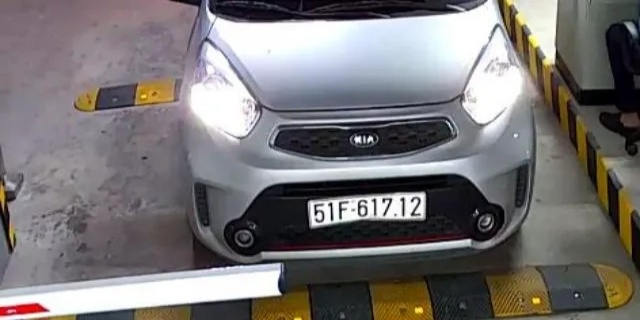bien_so: (309, 194, 425, 221)
